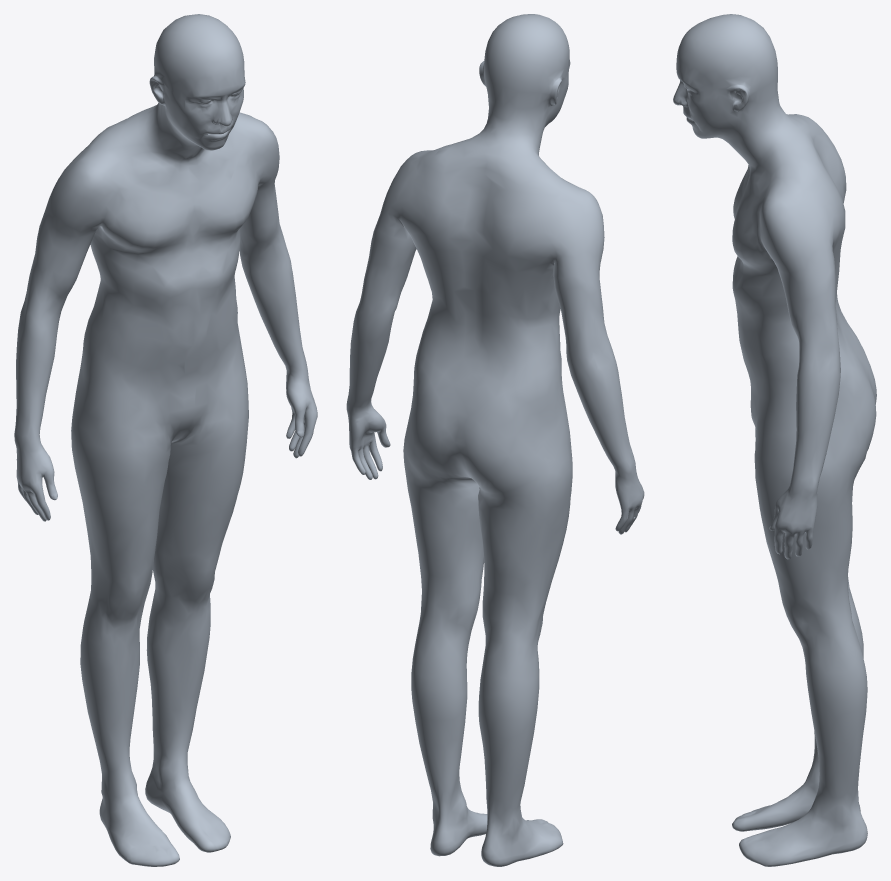
Rendered from apex-figure-male.glb.
3 views of the same model, side by side, from view 1: azimuth 30°, elevation 25°; view 2: azimuth 150°, elevation 25°; view 3: azimuth 270°, elevation 25° (orthographic). The views are drawn at different scales.
Parts seen in each view (by area): view 1: ApexBodyMale; view 2: ApexBodyMale; view 3: ApexBodyMale.
Part boxes in pixels (bbox=[...]): ApexBodyMale: bbox=[14, 14, 317, 866]; ApexBodyMale: bbox=[346, 14, 644, 866]; ApexBodyMale: bbox=[673, 14, 876, 866].
Bounding box in the file's own units: 0.6489 × 1.76 × 0.3949.
